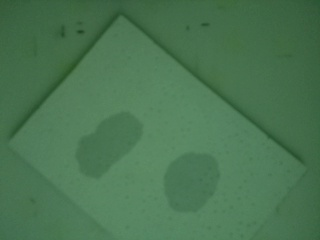Water_detected: (79, 116, 140, 176), (169, 154, 214, 206)
